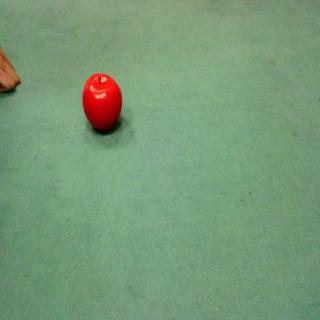apple: (74, 66, 133, 145)
